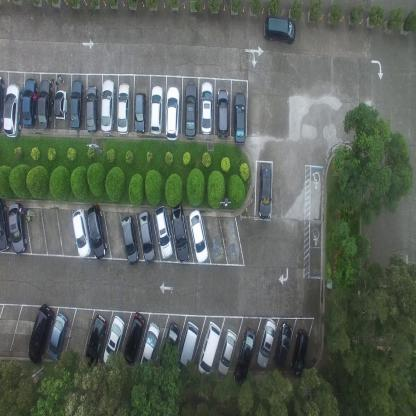car: (28, 302, 54, 364), (233, 327, 256, 385), (197, 321, 221, 376), (170, 201, 190, 264), (86, 203, 108, 259), (177, 320, 199, 375), (123, 312, 146, 364), (85, 314, 107, 368), (138, 322, 160, 374), (103, 315, 125, 367), (188, 209, 209, 262), (47, 312, 69, 362), (154, 205, 173, 261), (8, 201, 28, 254), (3, 83, 22, 138), (71, 207, 91, 259), (256, 318, 276, 370), (160, 320, 180, 372), (217, 328, 238, 377), (138, 209, 156, 264), (120, 214, 139, 266), (290, 328, 309, 379), (262, 16, 296, 44), (273, 321, 292, 369), (165, 86, 180, 144), (36, 78, 52, 130), (22, 78, 38, 129), (258, 161, 272, 219), (69, 78, 84, 131), (100, 78, 114, 133), (232, 92, 246, 146), (184, 82, 197, 139), (200, 80, 213, 136), (117, 81, 130, 135), (216, 87, 229, 139), (85, 83, 98, 134), (150, 84, 162, 136), (133, 92, 147, 134), (0, 195, 10, 252), (54, 90, 67, 120)
